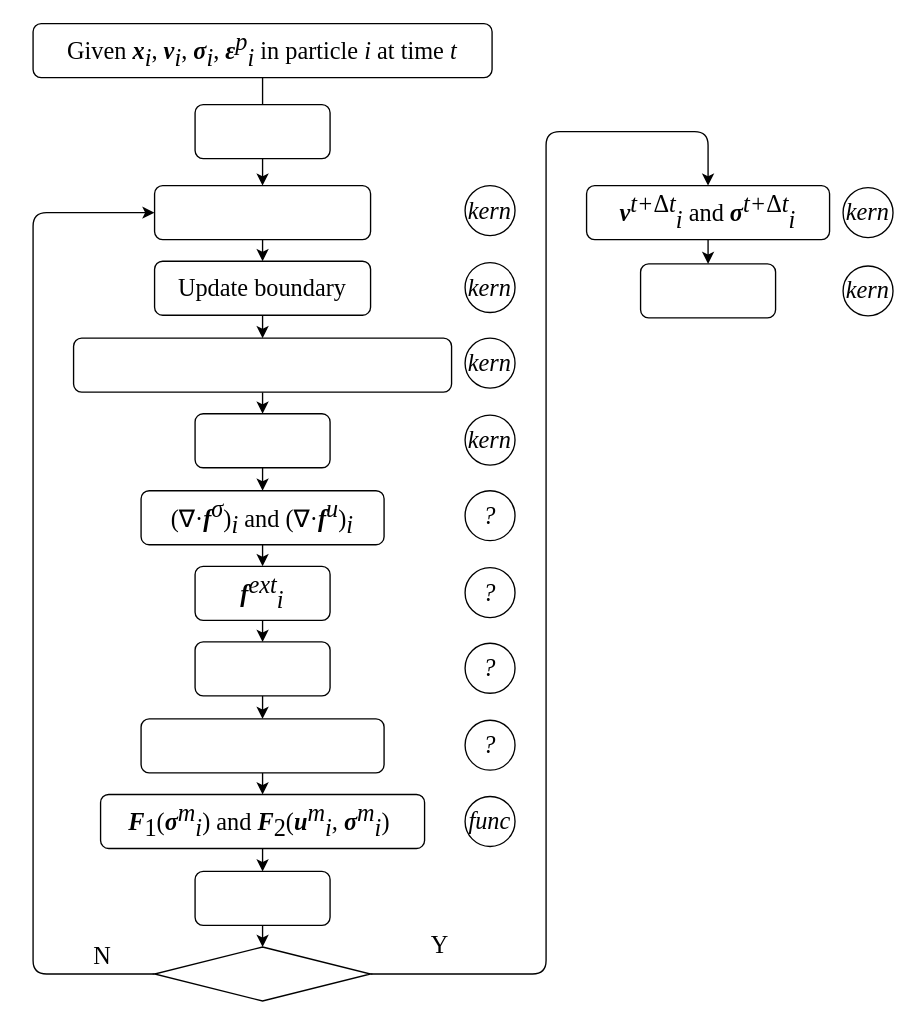
The diagram is 917 pixels wide and 1025 high, and some of its shapes have lost their labels. The shapes that lost their labels are listed below. From the top down, each one's centre as x and y in pixels, then its label:
the point at 262,131: m = 1
the point at 262,212: u m i and σ m i
the point at 707,290: x t+ Δ t i
the point at 262,364: Check stress state & adapt stress
the point at 262,440: f σ i and f u i
the point at 262,668: g εp i
the point at 262,745: ω i and Jaumman σ ~ i
the point at 262,897: m += 1
the point at 262,973: m ≥ 4?
